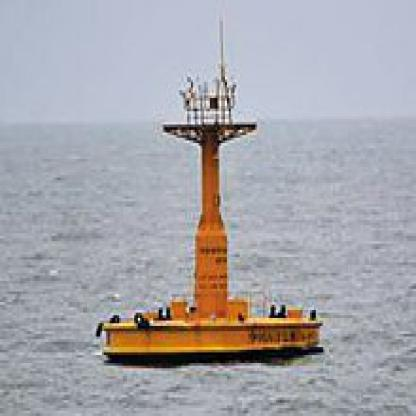buoy: (89, 8, 327, 371)
